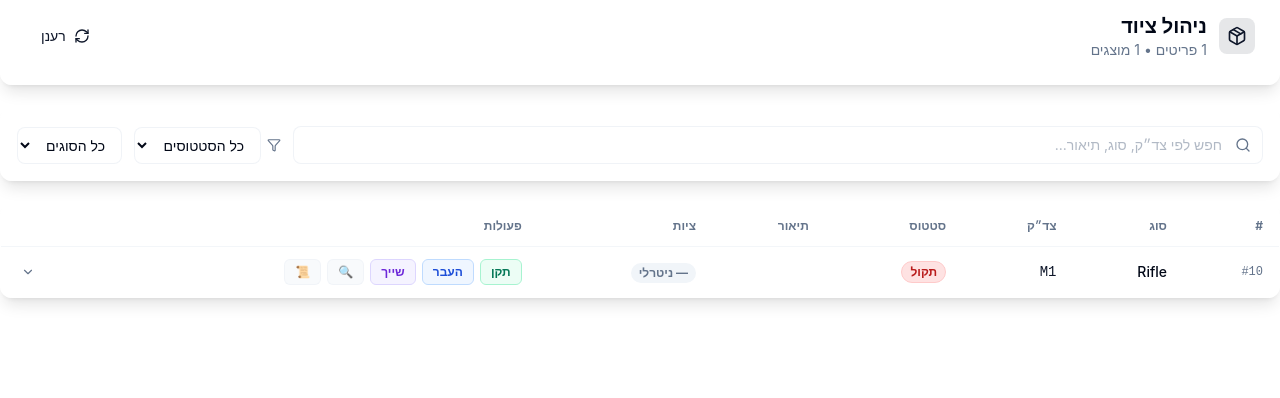
it: EquipmentPage inline history: collapsing the row aborts its read (FE-H5) › shows the history once it arrives
Expected: the button "העבר" is shown, [422,259,474,285]
Click the 2nd button at (28, 272), box [17,260,39,282]
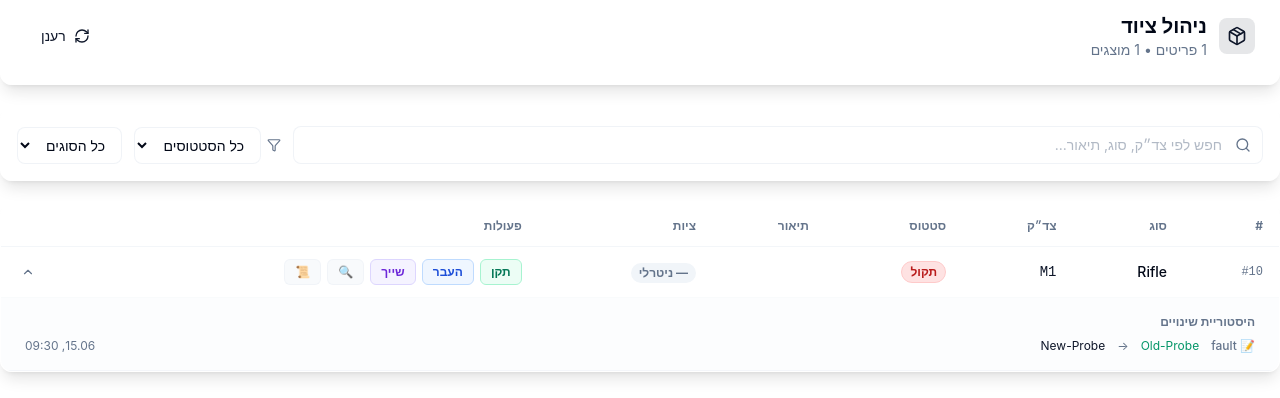
Result: the text "New-Probe" is shown at [1040,338,1105,354]
